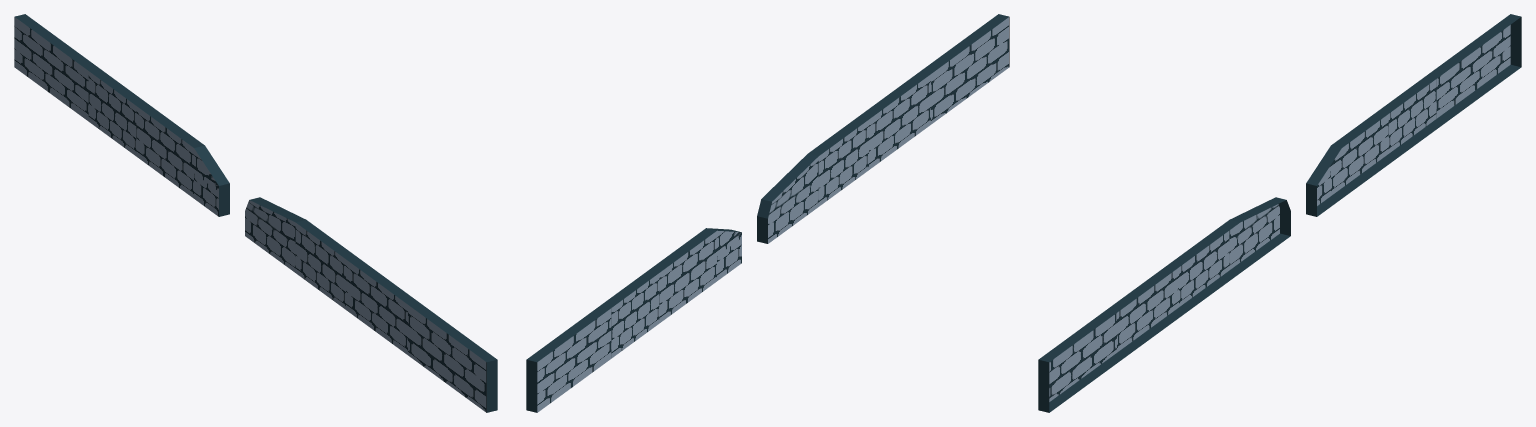
File: ParedeQuebrada.fbx
3 views of the same model, side by side, from view 1: azimuth 30°, elevation 25°; view 2: azimuth 150°, elevation 25°; view 3: azimuth 330°, elevation 25° (orthographic).
Visible parts, largest first — view 1: ParedeQuebrada; view 2: ParedeQuebrada; view 3: ParedeQuebrada.
Part boxes in pixels (x1=…): ParedeQuebrada: x1=14, y1=14, x2=497, y2=412; ParedeQuebrada: x1=526, y1=14, x2=1009, y2=412; ParedeQuebrada: x1=1038, y1=14, x2=1521, y2=412.
Size of the model in its own units: 45.14 by 3379 by 200.
